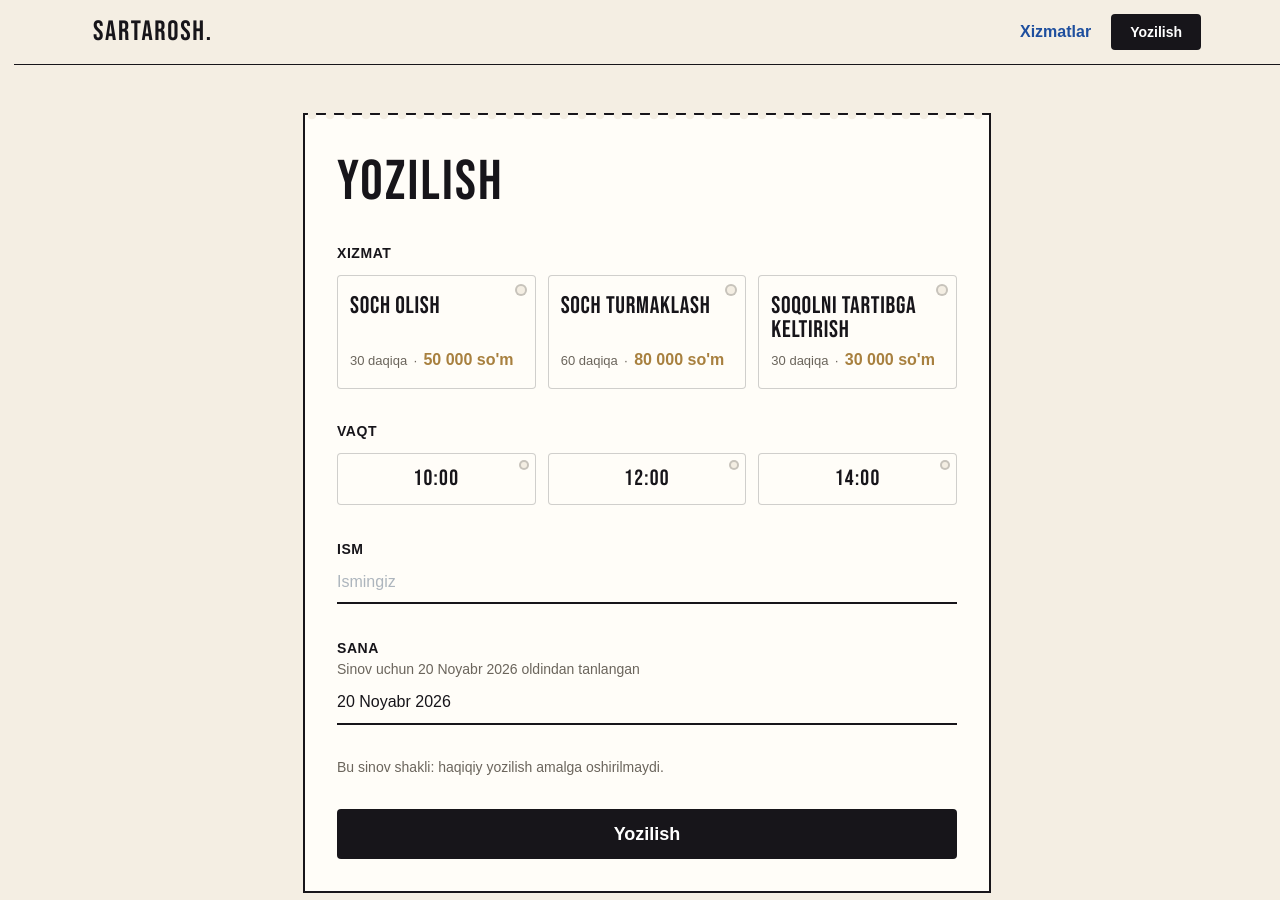
Scenario: check 1: S01 + 12:00 + Sinovchi 01 shows the confirmation
Click the radio button with test id "service-S01".
click(436, 332)  # box [337,275,536,390]
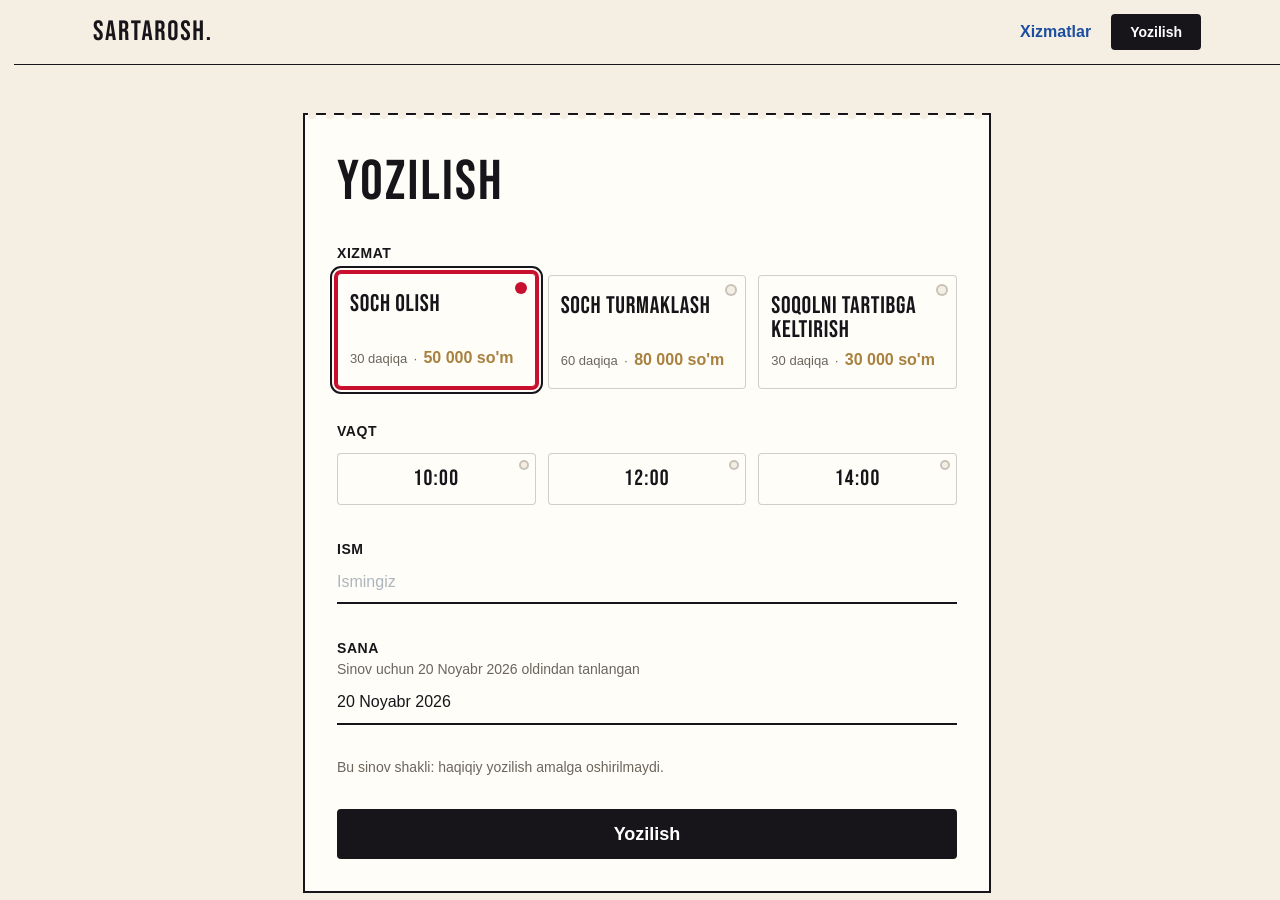
Click the radio button with test id "time-12:00".
click(647, 479)  # box [548,453,746,505]
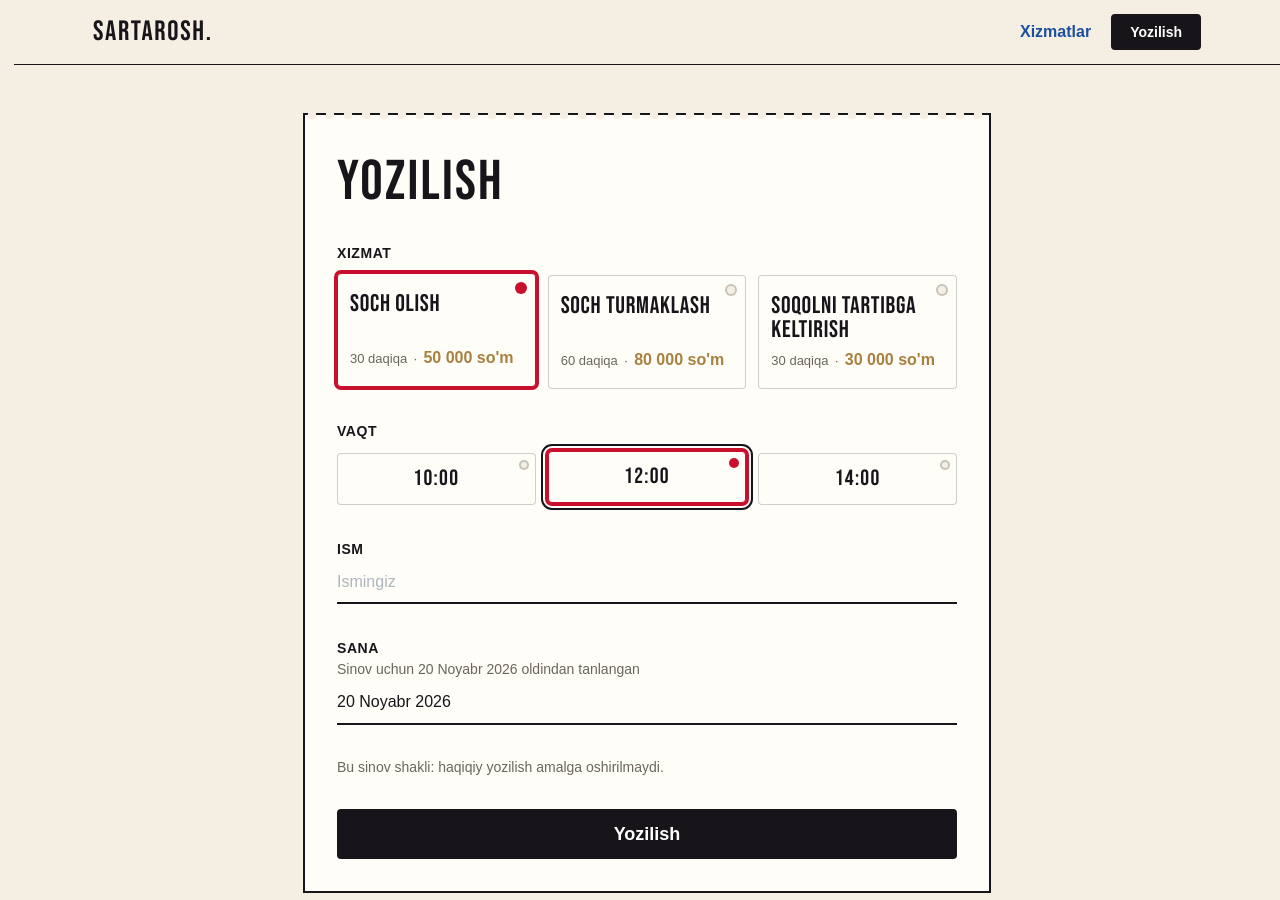
Type "Sinovchi 01" into the field with test id "name-input".
click(647, 583); type("Sinovchi 01")  # box [337,562,957,604]
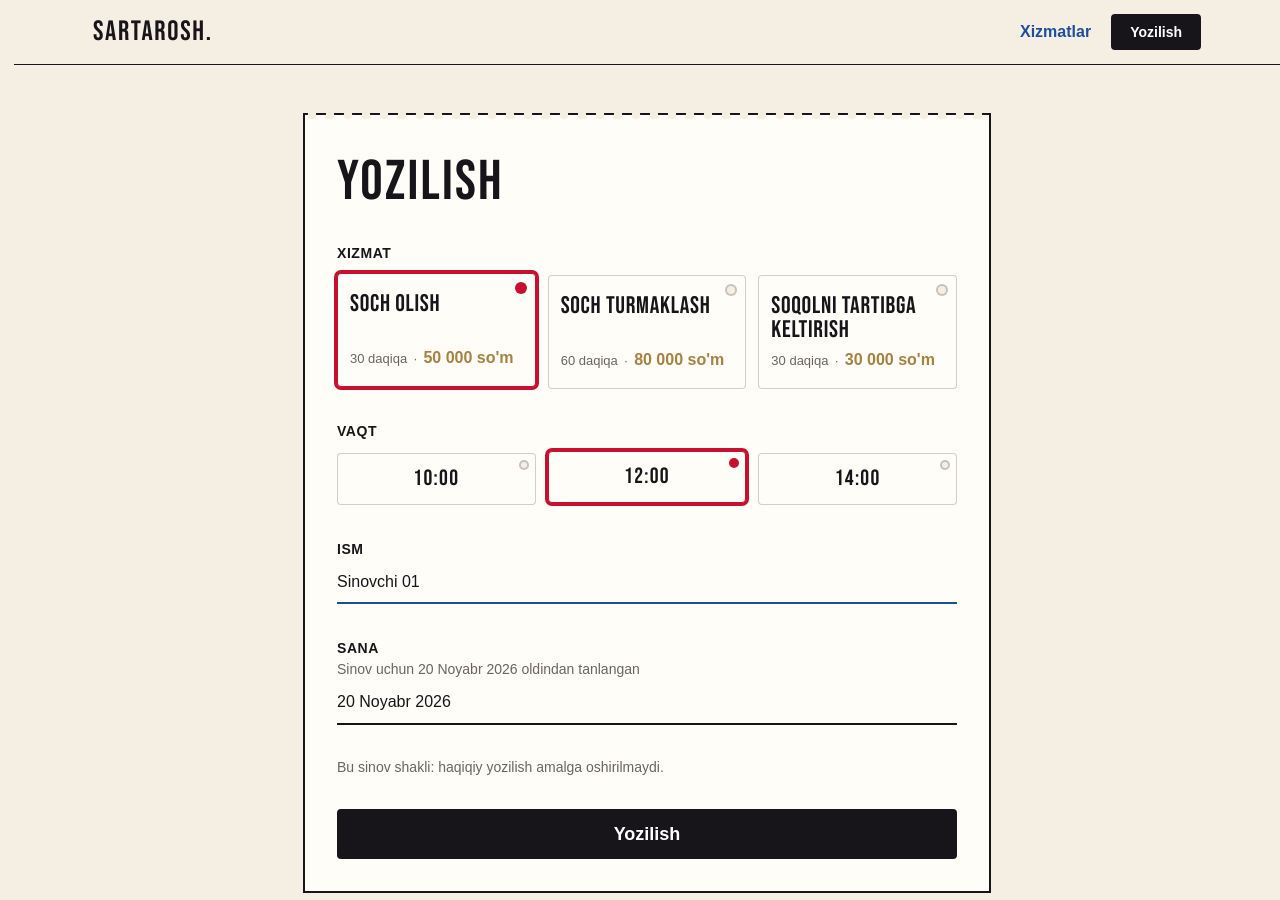
Click the button with test id "submit-booking".
click(647, 834)  # box [337,809,957,859]
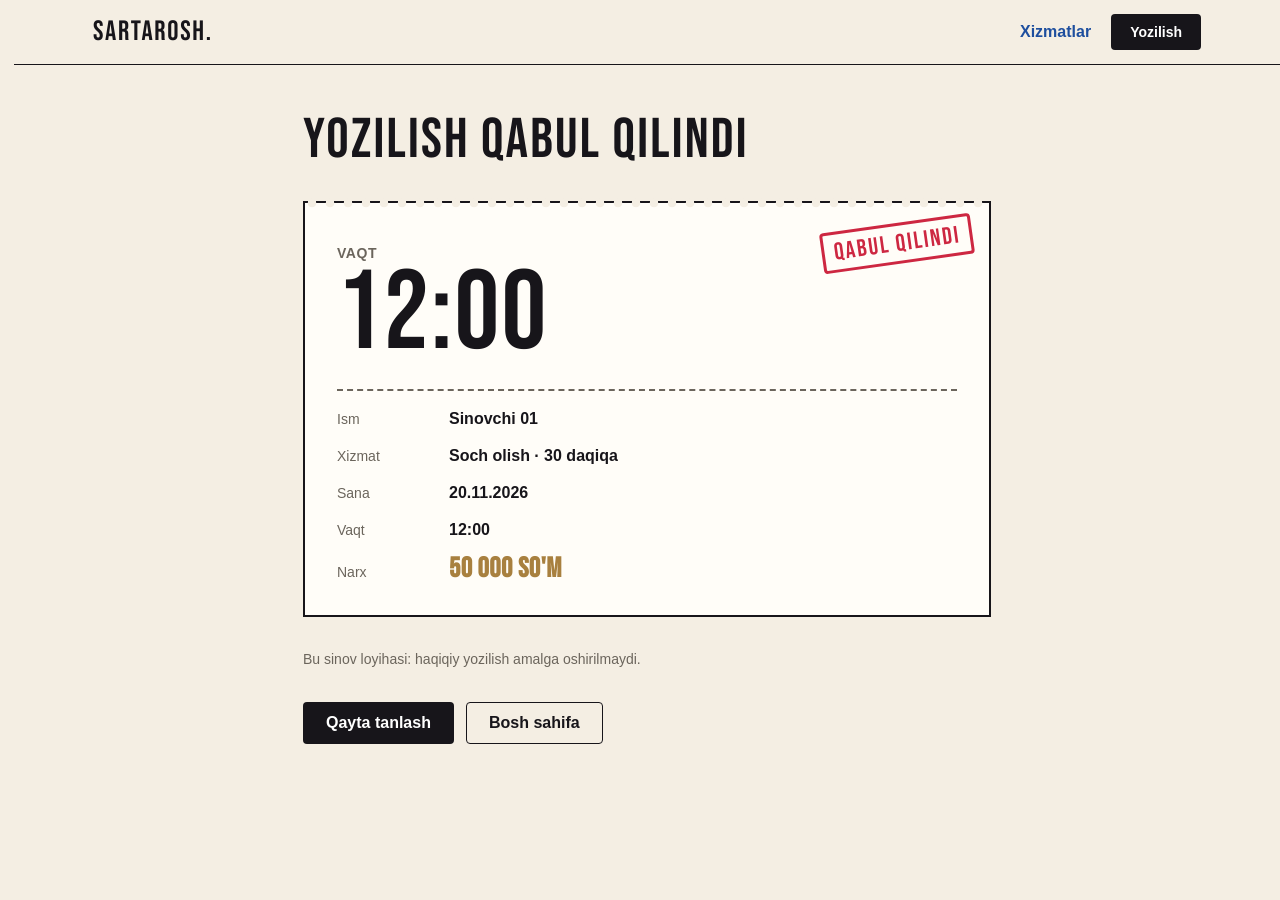
Result: the element with test id "confirm-card" shows "Sinovchi 01" at [449,410,538,428]
Result: the element with test id "confirm-card" shows "Soch olish" at [449,447,618,464]
Result: the element with test id "confirm-card" shows "20.11.2026" at [449,484,528,501]
